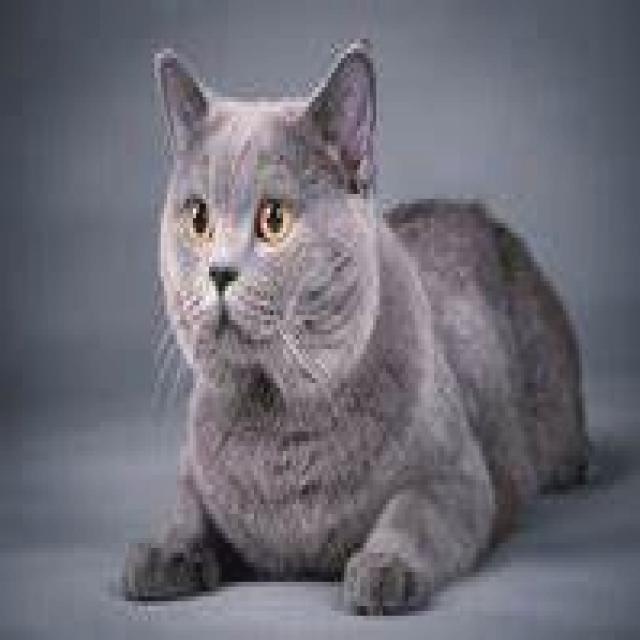KEDI: (99, 32, 594, 618)
